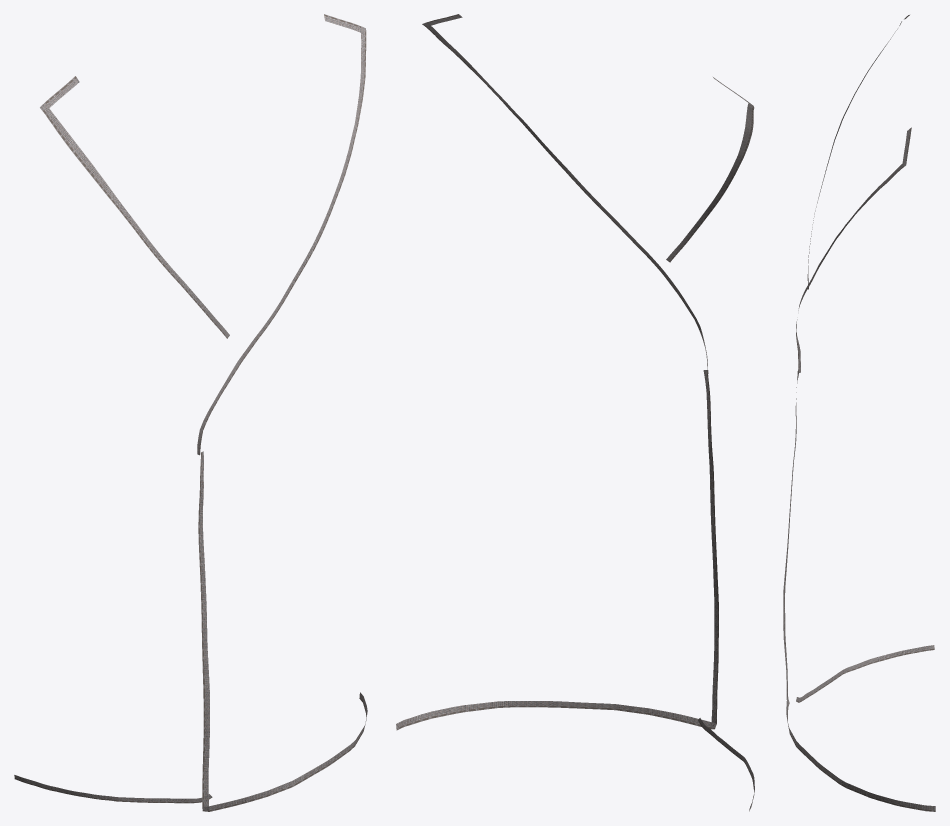
File: noch_double_breasted_wide_suit_AMF 2mm.glb
3 renders of one model, left to right at view 1: azimuth 30°, elevation 25°; view 2: azimuth 150°, elevation 25°; view 3: azimuth 270°, elevation 25°, orthographic. The views are drawn at different scales.
Parts seen in each view (by area): view 1: noch_double_breasted_wide_suit_AMF1; view 2: noch_double_breasted_wide_suit_AMF1; view 3: noch_double_breasted_wide_suit_AMF1.
Boxes of the visible parts, box(x1,y1,x2,y2) form: noch_double_breasted_wide_suit_AMF1: box(14, 14, 367, 811); noch_double_breasted_wide_suit_AMF1: box(396, 14, 754, 811); noch_double_breasted_wide_suit_AMF1: box(783, 15, 935, 811).
Size of the model in its own units: 0.0478 by 0.0931 by 0.0194.
1 material, 1 textured.
